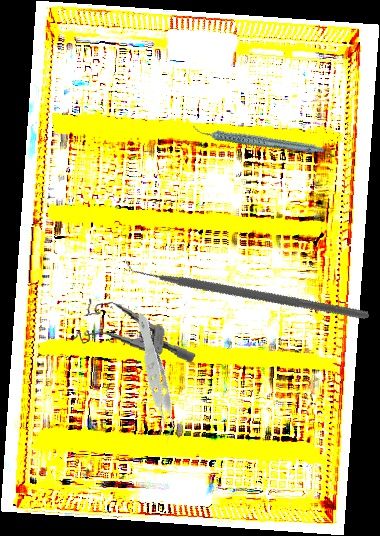Chopper: (122, 178, 370, 392)
Handpiece: (191, 98, 326, 180)
Speculum: (70, 296, 201, 364)
Tissue Forceps: (103, 312, 204, 446)
